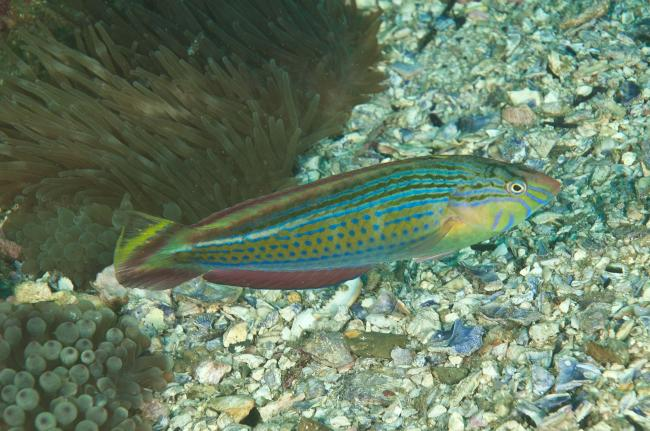fish: (113, 153, 563, 293)
